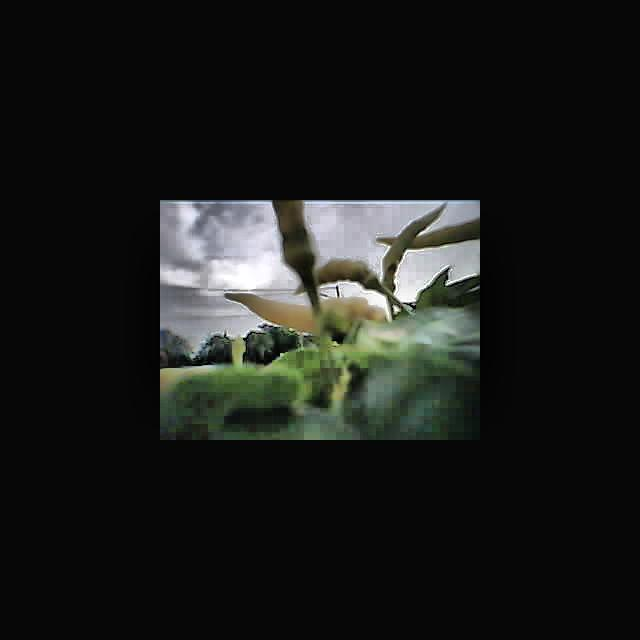Cabai: (230, 283, 384, 339)
